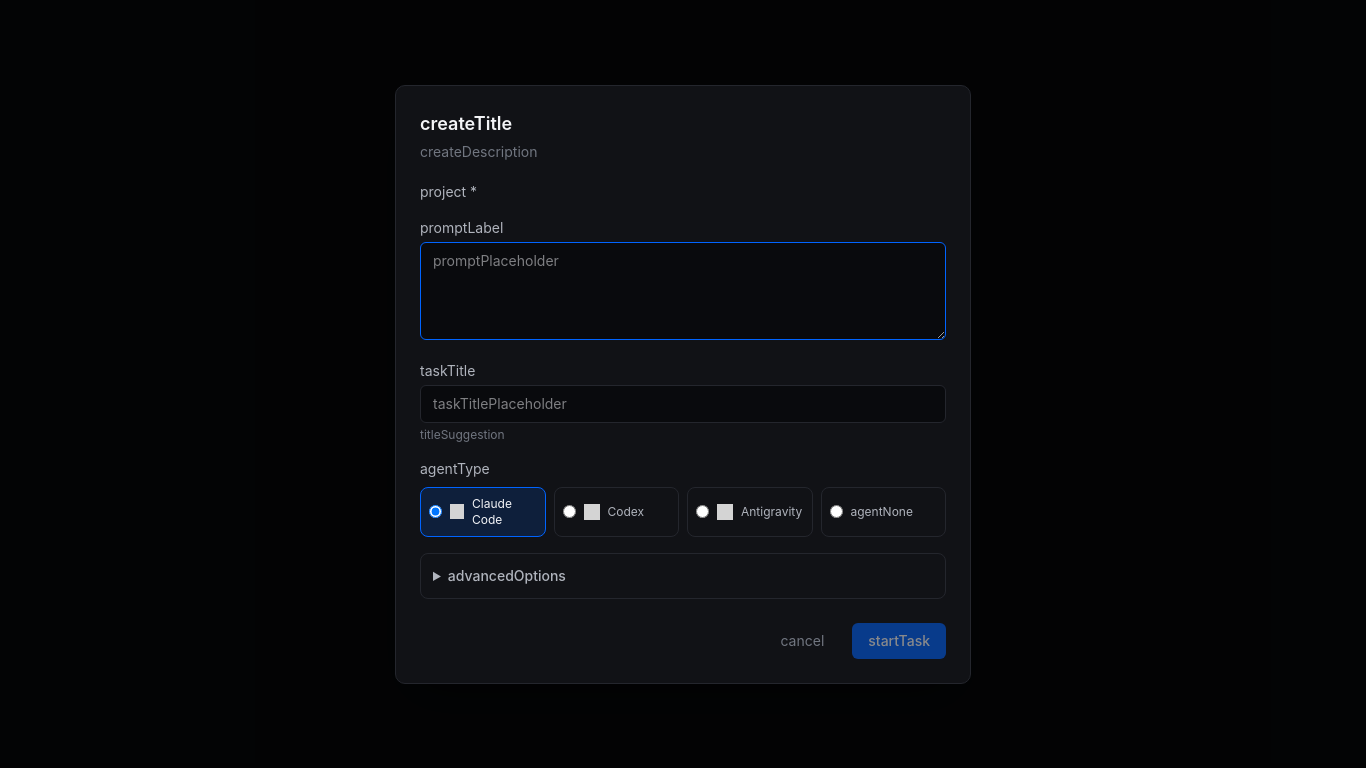
it: beginner task creation › retains request and reports creation failure
Type "Sửa lỗi đăng nhập" into the text box labelled "promptLabel" at (683, 290), box [420,242,946,340]
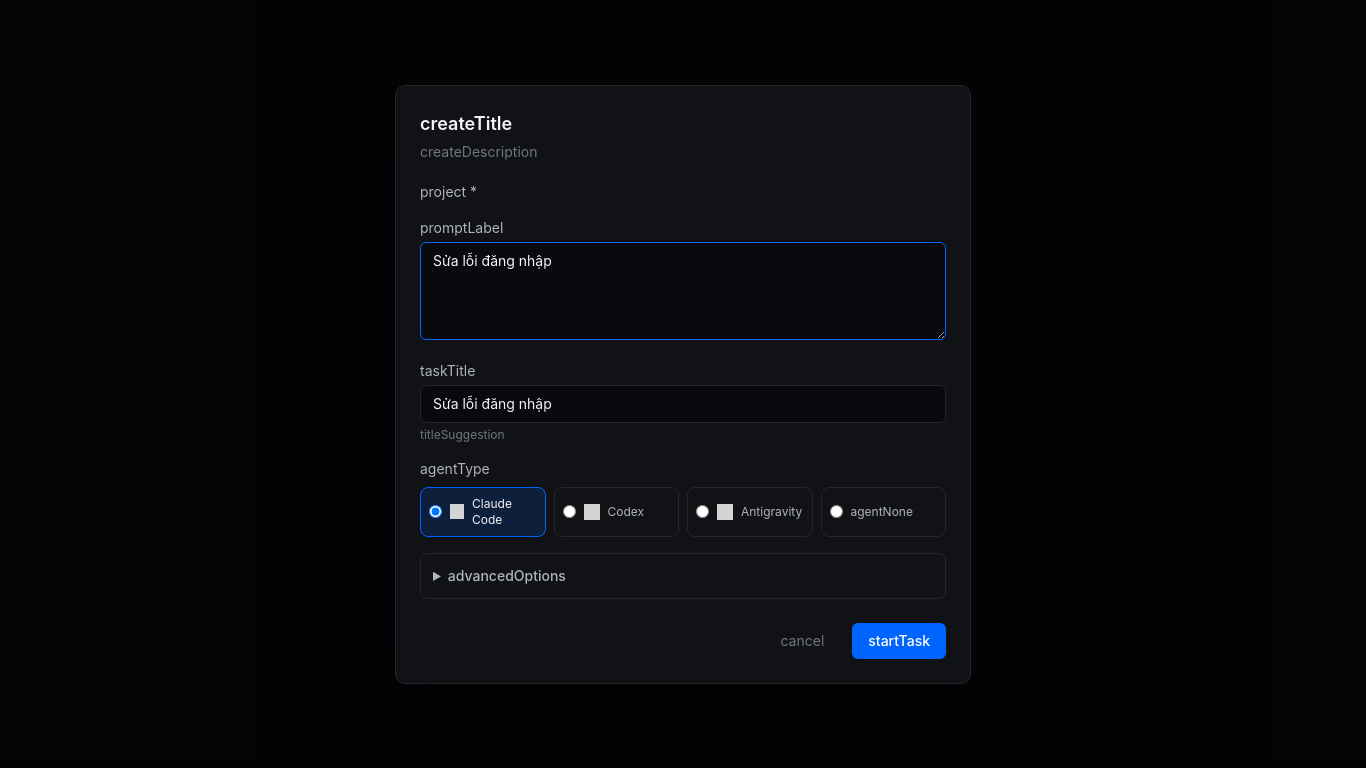
Click the button "startTask" at (899, 640), box [852,622,946,658]
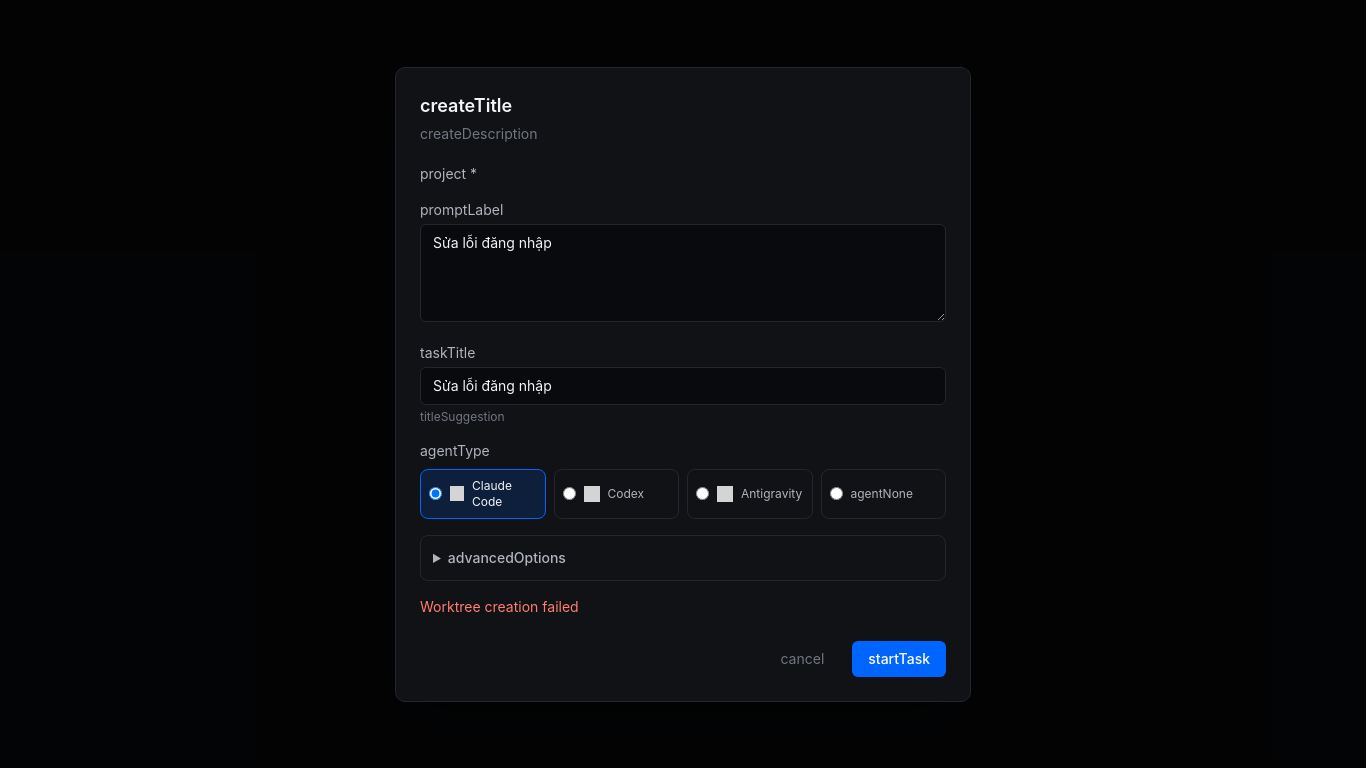
Expected: the message reads "Worktree creation failed", [420,598,579,614]
